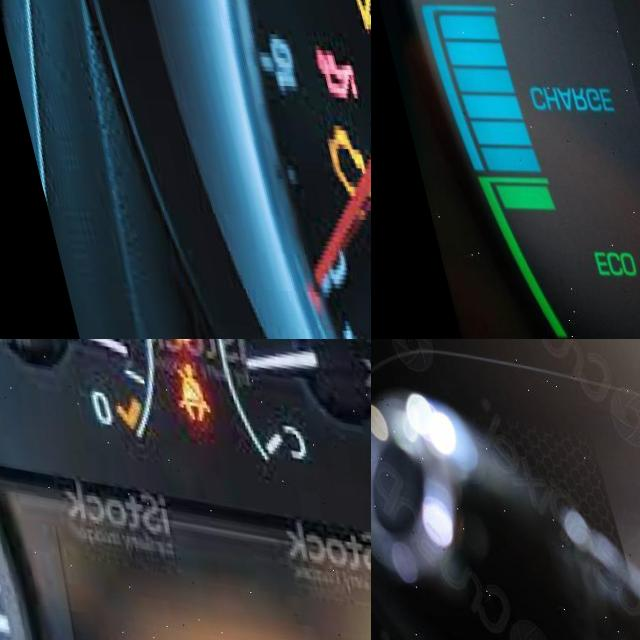Seat Belt: (152, 359, 198, 421)
